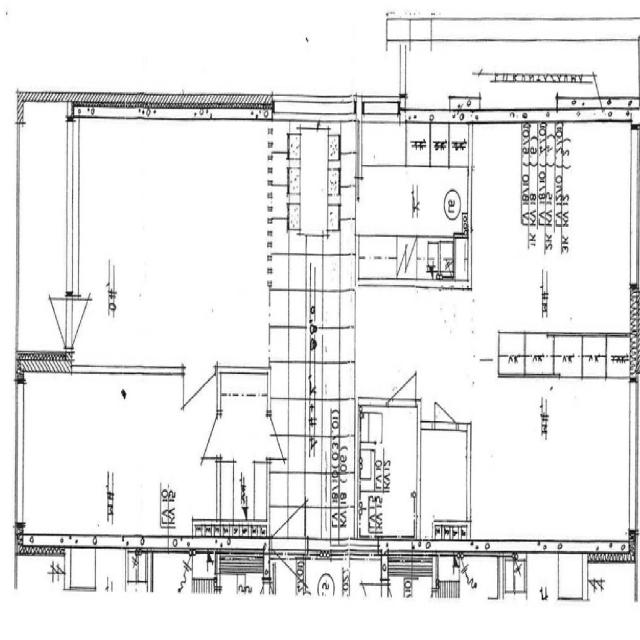door: (271, 540, 306, 613), (271, 479, 306, 551), (183, 366, 216, 430), (39, 297, 79, 347), (67, 297, 106, 347), (388, 349, 416, 406), (267, 414, 295, 459), (193, 413, 221, 458), (434, 382, 457, 430)
